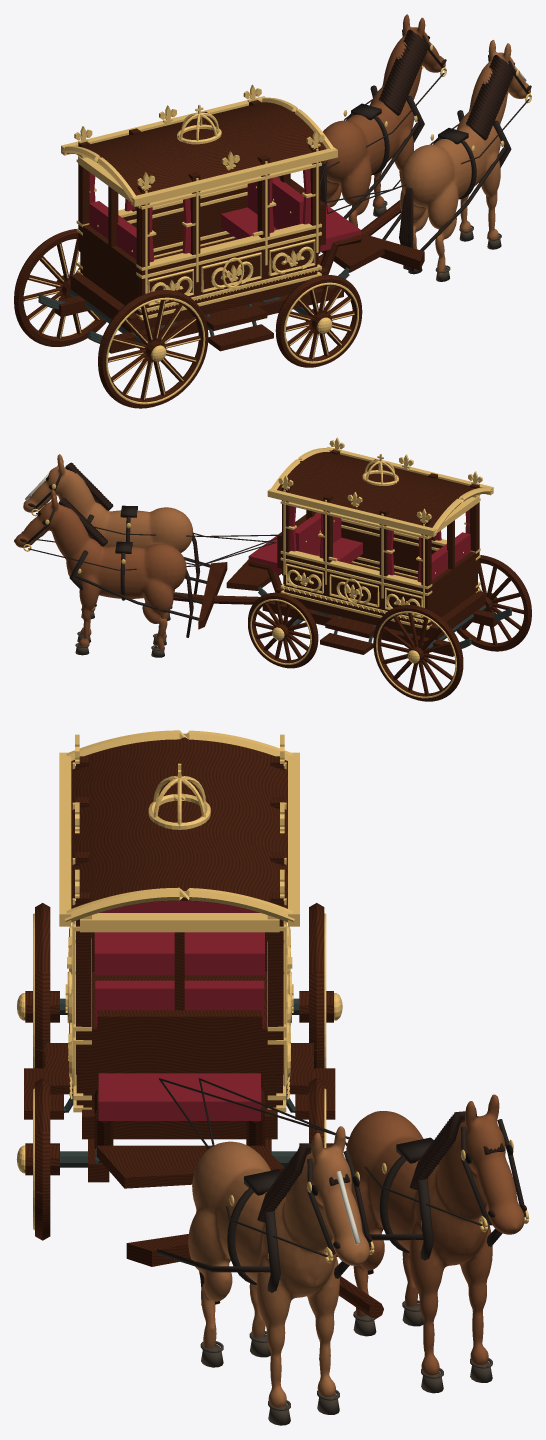
The model's file is royalCoach.glb.
3 views of the same model, one above another, from view 1: azimuth 30°, elevation 25°; view 2: azimuth 150°, elevation 25°; view 3: azimuth 270°, elevation 25° (orthographic). The views are drawn at different scales.
Parts seen in each view (by area): view 1: Voiture royale - noyer grave panneaux sculptes et dorures.00, Cheval 2 - anatomie continue.003, Cheval 1 - anatomie continue.003, Cheval 2 - criniere queue sabots yeux et harnachement.003, Cheval 1 - criniere queue sabots yeux et harnachement.003; view 2: Voiture royale - noyer grave panneaux sculptes et dorures.00, Cheval 1 - anatomie continue.003, Cheval 2 - anatomie continue.003, Cheval 1 - criniere queue sabots yeux et harnachement.003, Cheval 2 - criniere queue sabots yeux et harnachement.003; view 3: Voiture royale - noyer grave panneaux sculptes et dorures.00, Cheval 2 - anatomie continue.003, Cheval 1 - anatomie continue.003, Cheval 2 - criniere queue sabots yeux et harnachement.003, Cheval 1 - criniere queue sabots yeux et harnachement.003.
Boxes of the visible parts, <box> form: Voiture royale - noyer grave panneaux sculptes et dorures.00: <box>14,84,424,408</box>; Cheval 2 - anatomie continue.003: <box>400,40,530,276</box>; Cheval 1 - anatomie continue.003: <box>321,14,445,227</box>; Cheval 2 - criniere queue sabots yeux et harnachement.003: <box>323,55,531,281</box>; Cheval 1 - criniere queue sabots yeux et harnachement.003: <box>320,29,446,218</box>; Voiture royale - noyer grave panneaux sculptes et dorures.00: <box>173,437,531,701</box>; Cheval 1 - anatomie continue.003: <box>14,489,186,651</box>; Cheval 2 - anatomie continue.003: <box>23,454,193,615</box>; Cheval 1 - criniere queue sabots yeux et harnachement.003: <box>20,498,277,657</box>; Cheval 2 - criniere queue sabots yeux et harnachement.003: <box>25,462,277,620</box>; Voiture royale - noyer grave panneaux sculptes et dorures.00: <box>16,730,383,1318</box>; Cheval 2 - anatomie continue.003: <box>188,1126,369,1407</box>; Cheval 1 - anatomie continue.003: <box>346,1094,524,1375</box>; Cheval 2 - criniere queue sabots yeux et harnachement.003: <box>156,1078,374,1425</box>; Cheval 1 - criniere queue sabots yeux et harnachement.003: <box>159,1078,529,1393</box>.
Size of the model in its own units: 7.47 by 3.38 by 3.85.
11 materials, 1 textured.
